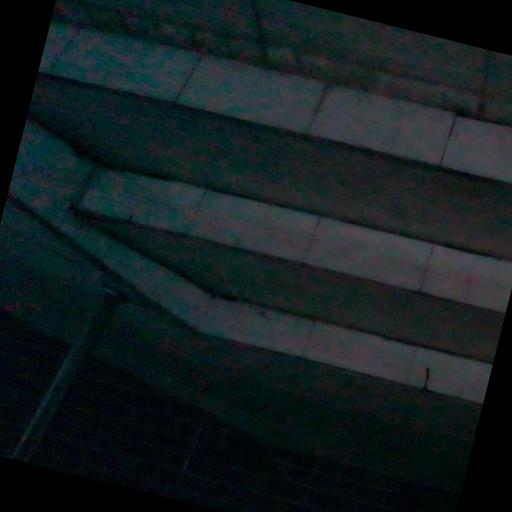stairs: (28, 22, 511, 401)
